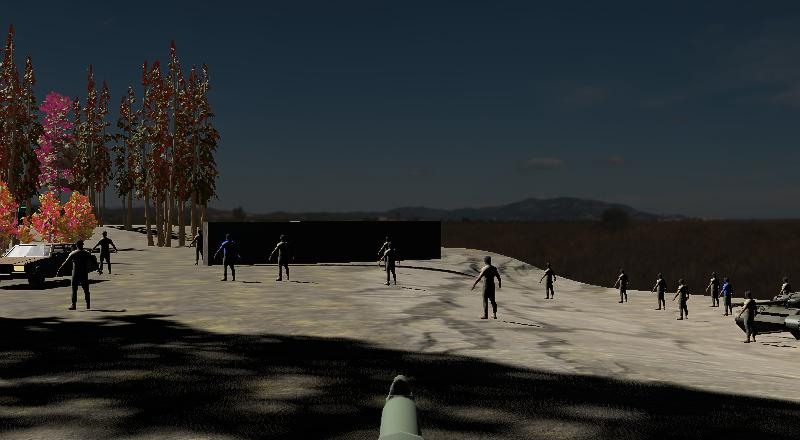Human: (57, 236, 100, 312), (471, 253, 503, 321), (213, 231, 242, 283), (268, 232, 295, 283), (92, 229, 119, 276), (377, 239, 403, 287), (739, 287, 759, 345), (189, 226, 205, 267)
Tank: (738, 286, 800, 345)
car: (0, 239, 83, 288)
